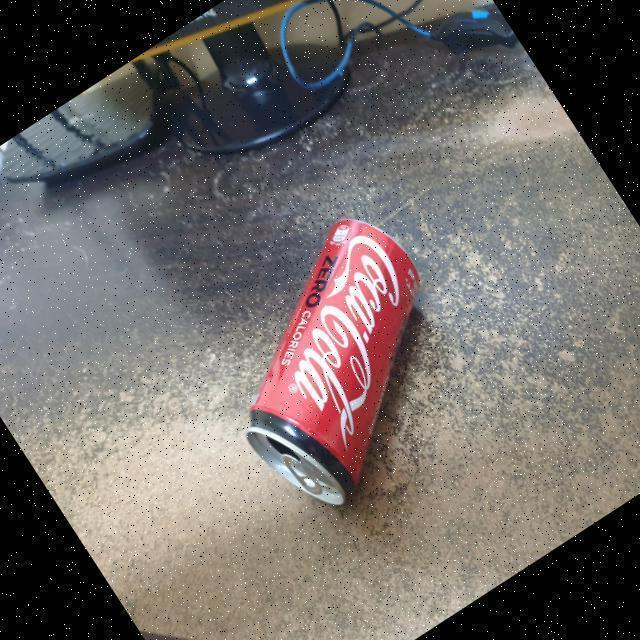metal: (242, 214, 421, 556)
